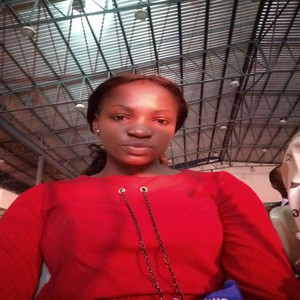Fulokoja_female_student: (85, 79, 221, 300)
